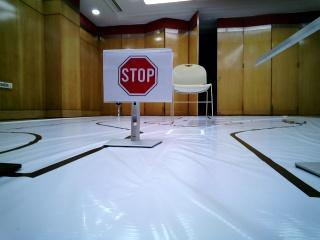stop: (103, 48, 174, 104)
